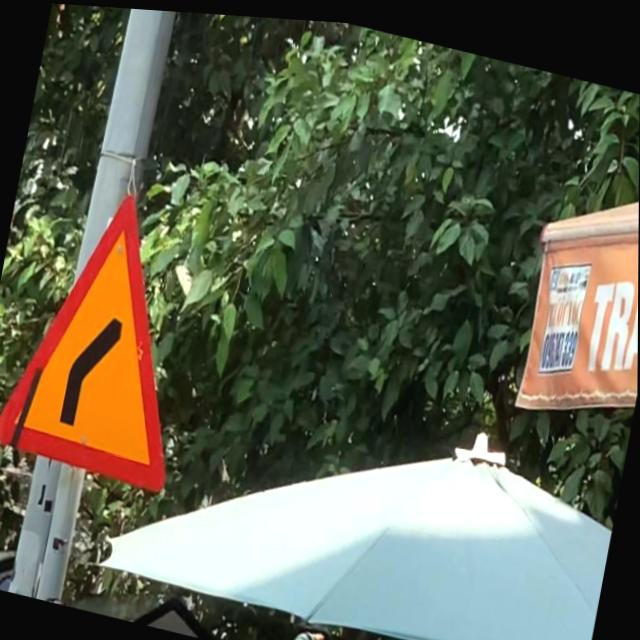cho ngoat nguy hiem vong ben phai: (0, 165, 216, 494)
